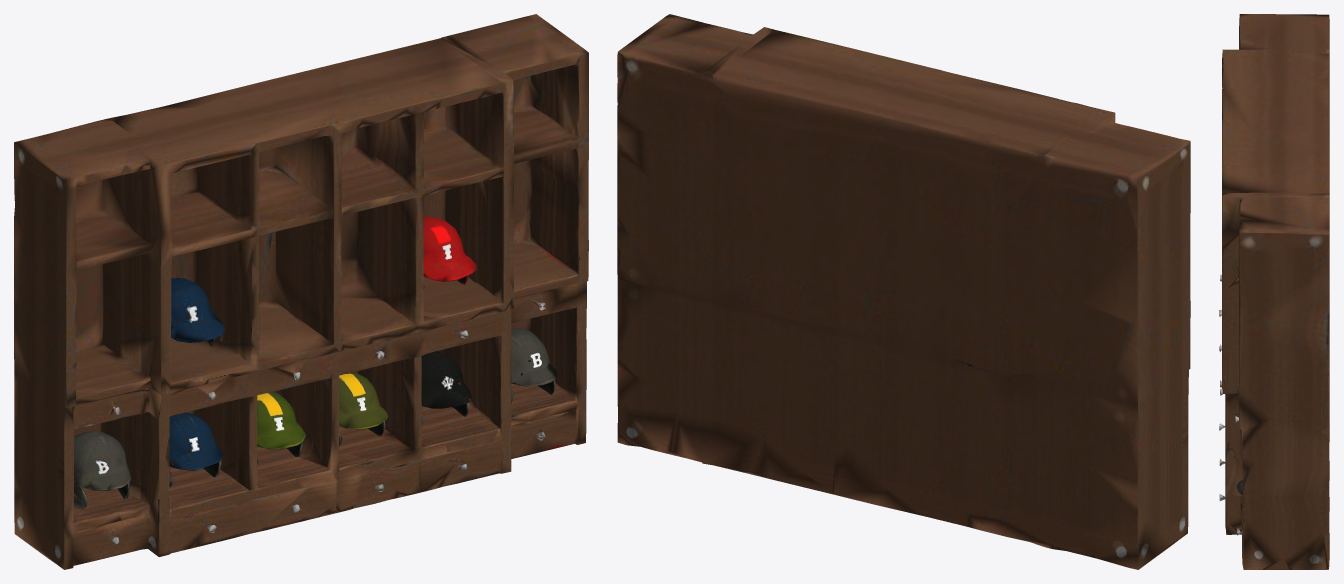
The model's file is helmet_cubbies.glb.
The picture shows the model from 3 angles, left to right: view 1: azimuth 30°, elevation 25°; view 2: azimuth 150°, elevation 25°; view 3: azimuth 270°, elevation 25°; orthographic projection. The views are drawn at different scales.
Bounding box in the file's own units: 1.9 × 1.37 × 0.4057.
Materials: 1 (1 with a texture image).
